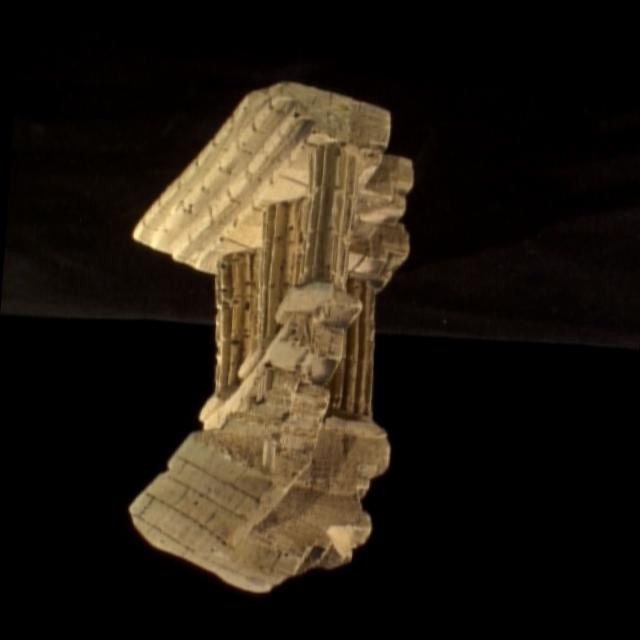Instance-Segmentation: (131, 82, 411, 591)
